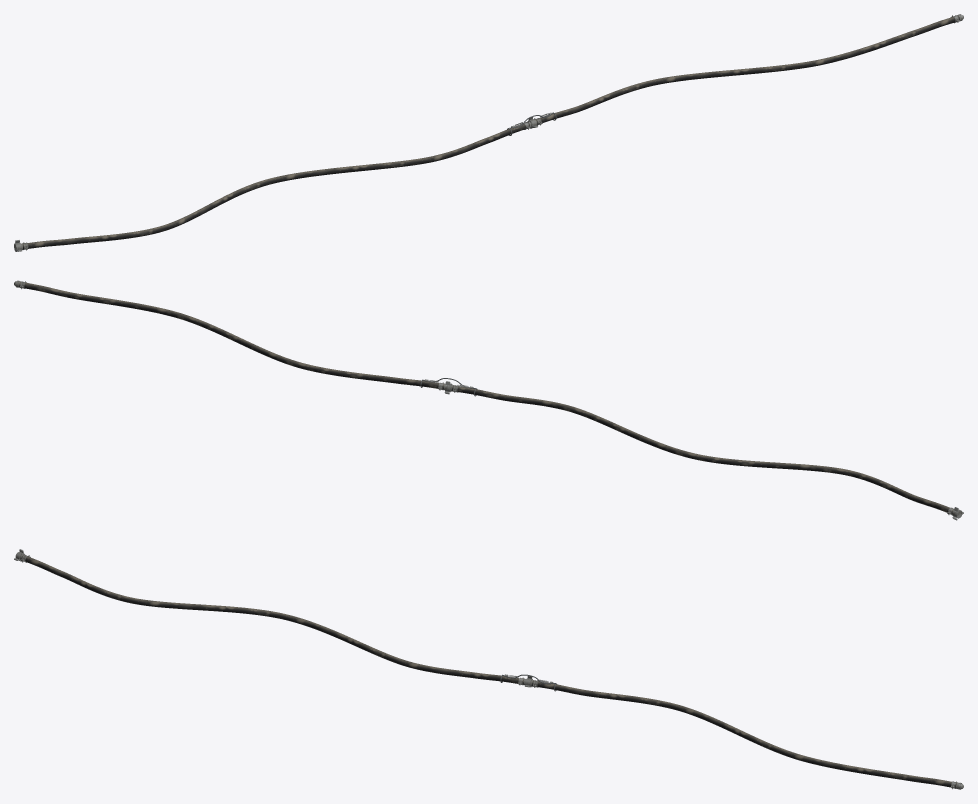
The model's file is SM_AEE_P02_Eau.glb.
3 renders of one model, top to bottom at view 1: azimuth 30°, elevation 25°; view 2: azimuth 150°, elevation 25°; view 3: azimuth 330°, elevation 25°, orthographic.
Parts seen in each view (by area): view 1: SM_AEE_P02_01_BOYAU_D_EAU_1_po_1, SM_AEE_P02_01_BOYAU_D_EAU_1_po_2; view 2: SM_AEE_P02_01_BOYAU_D_EAU_1_po_1, SM_AEE_P02_01_BOYAU_D_EAU_1_po_2; view 3: SM_AEE_P02_01_BOYAU_D_EAU_1_po_1, SM_AEE_P02_01_BOYAU_D_EAU_1_po_2.
Boxes of the visible parts, x1,y1,x2,y2 form: SM_AEE_P02_01_BOYAU_D_EAU_1_po_1: (22,123,529,249); SM_AEE_P02_01_BOYAU_D_EAU_1_po_2: (536,15,959,124); SM_AEE_P02_01_BOYAU_D_EAU_1_po_1: (452,385,953,514); SM_AEE_P02_01_BOYAU_D_EAU_1_po_2: (19,282,444,389); SM_AEE_P02_01_BOYAU_D_EAU_1_po_1: (21,555,524,684); SM_AEE_P02_01_BOYAU_D_EAU_1_po_2: (532,680,956,788).
Size of the model in its own units: 7.1 by 0.0992 by 0.3888.
Materials: 3 (3 with a texture image).
